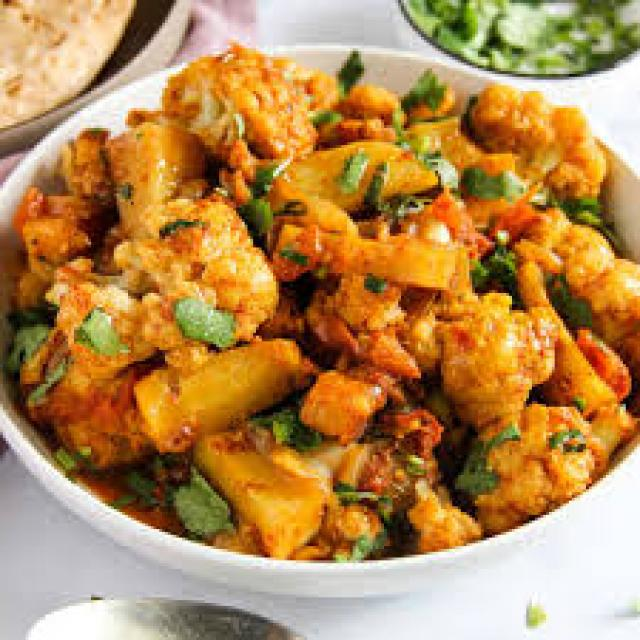Aloo Gobi: (109, 119, 556, 463)
